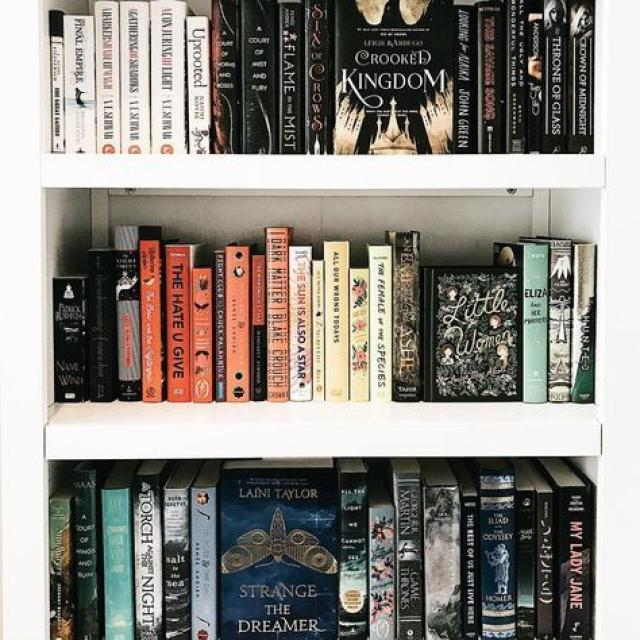book: (480, 474, 516, 640), (424, 488, 461, 640), (241, 1, 277, 154), (151, 1, 185, 153), (100, 490, 131, 640), (134, 474, 162, 640), (72, 470, 99, 640), (395, 470, 422, 640), (562, 485, 590, 640), (211, 0, 239, 154), (122, 2, 150, 153), (394, 233, 419, 402), (115, 226, 139, 400), (65, 15, 95, 152), (304, 0, 330, 154), (324, 242, 349, 400), (478, 3, 503, 152), (55, 277, 85, 401), (342, 471, 364, 640), (505, 0, 529, 154), (267, 228, 288, 402), (568, 0, 592, 151), (89, 251, 113, 402), (165, 489, 189, 640), (192, 489, 216, 640), (96, 2, 120, 152), (166, 246, 189, 401), (369, 246, 392, 401), (524, 246, 546, 403), (140, 239, 161, 403), (289, 246, 311, 401), (281, 2, 303, 154), (544, 0, 566, 152), (550, 243, 571, 400), (369, 509, 394, 640), (226, 246, 247, 401), (50, 498, 72, 640), (455, 6, 476, 152), (188, 18, 210, 154), (575, 247, 594, 402), (517, 490, 536, 640), (351, 268, 370, 400), (193, 269, 211, 402), (538, 492, 552, 640), (462, 494, 476, 640), (252, 254, 264, 400), (530, 13, 542, 152), (216, 252, 226, 402), (313, 261, 323, 401)
